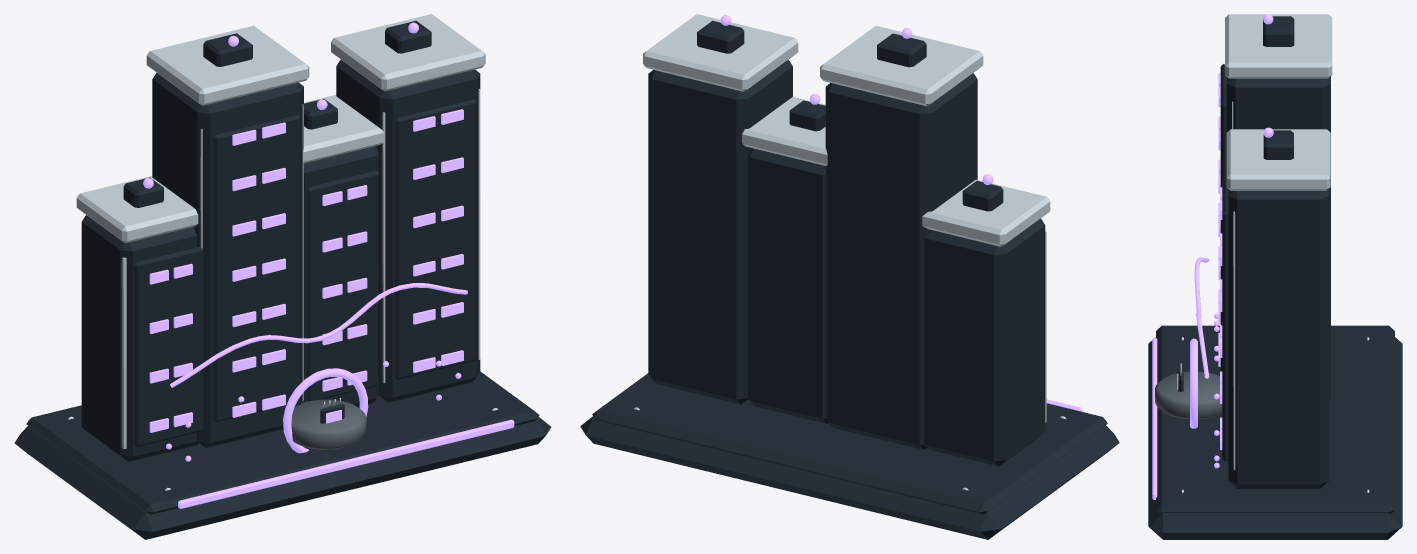
File: CompanyB_System.glb
3 views of the same model, side by side, from view 1: azimuth 30°, elevation 25°; view 2: azimuth 150°, elevation 25°; view 3: azimuth 270°, elevation 25° (orthographic). The views are drawn at different scales.
Visible parts, largest first — view 1: CompanyB_System_Body; view 2: CompanyB_System_Body; view 3: CompanyB_System_Body.
Boxes of the visible parts, x1,y1,x2,y2 form: CompanyB_System_Body: (14,14,551,539); CompanyB_System_Body: (580,14,1119,539); CompanyB_System_Body: (1148,14,1402,539).
Size of the model in its own units: 2.84 by 2.77 by 1.56.
